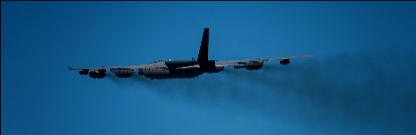B2: (66, 27, 312, 79)
